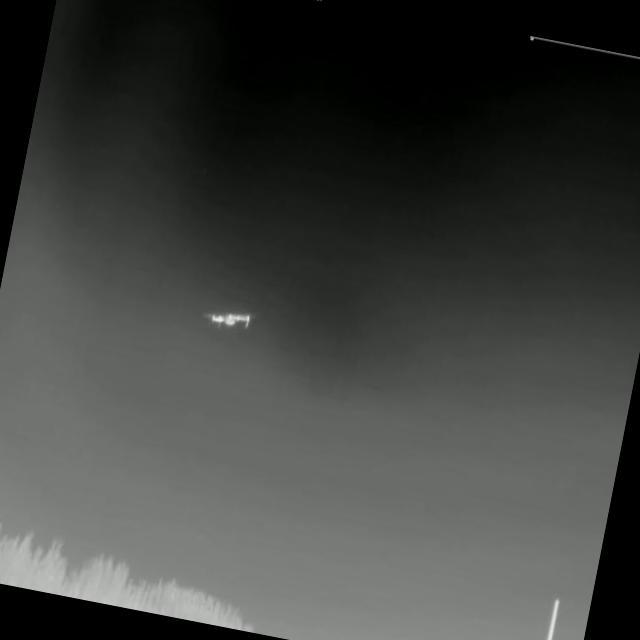DRONE: (192, 293, 263, 343)
